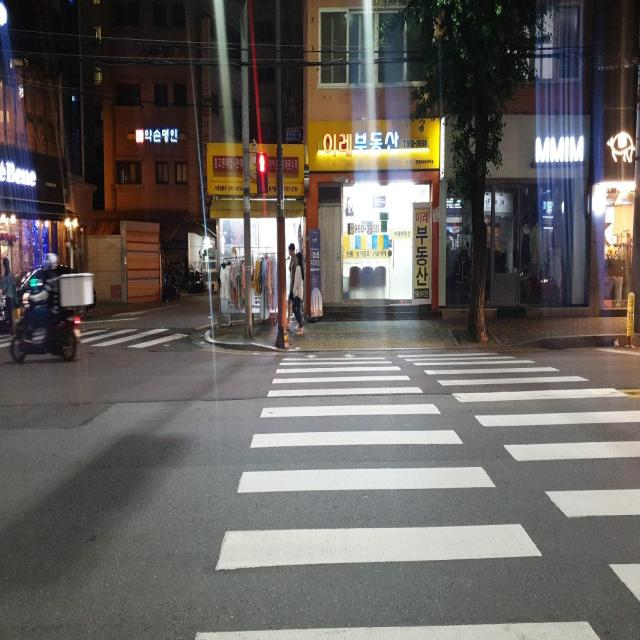빨간불: (252, 151, 270, 194)
횡단보도: (193, 352, 640, 640), (2, 316, 202, 365)
